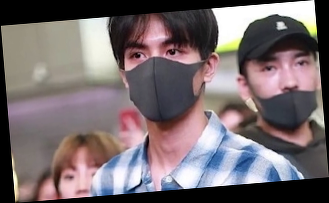mask_weared_incorrect: (246, 54, 320, 131)
with_mask: (124, 34, 206, 123)
without_mask: (58, 161, 103, 197)
